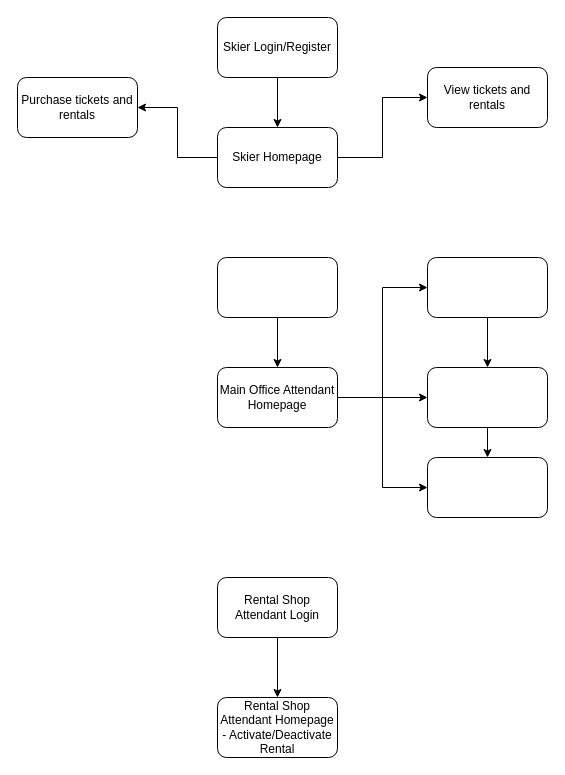
The diagram is 565 pixels wide and 775 high, and some of its shapes have lost their labels. Each missing label, with the centre of its shape:
"Main Office Attendant Login" belongs at (277,287).
"Print Ticket" belongs at (487,487).
"Sell Rental" belongs at (487,397).
"Sell Ticket" belongs at (487,287).
